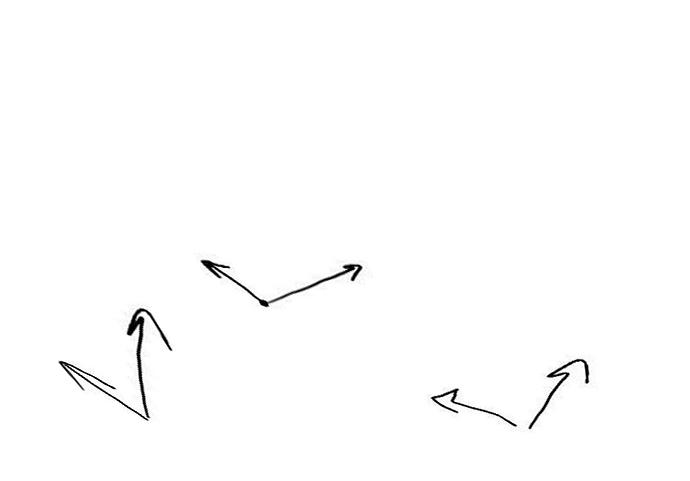arrow: (125, 306, 177, 422), (60, 358, 147, 422), (529, 360, 590, 425), (272, 260, 361, 302), (432, 386, 517, 427), (202, 257, 260, 303)
